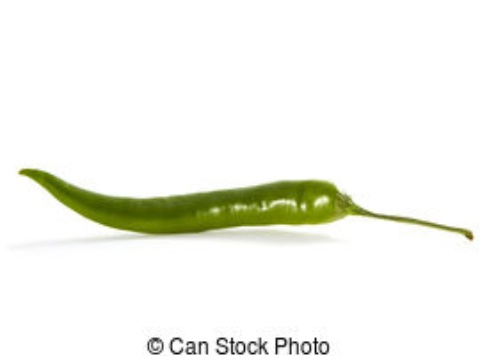Chilli: (9, 149, 464, 270)
